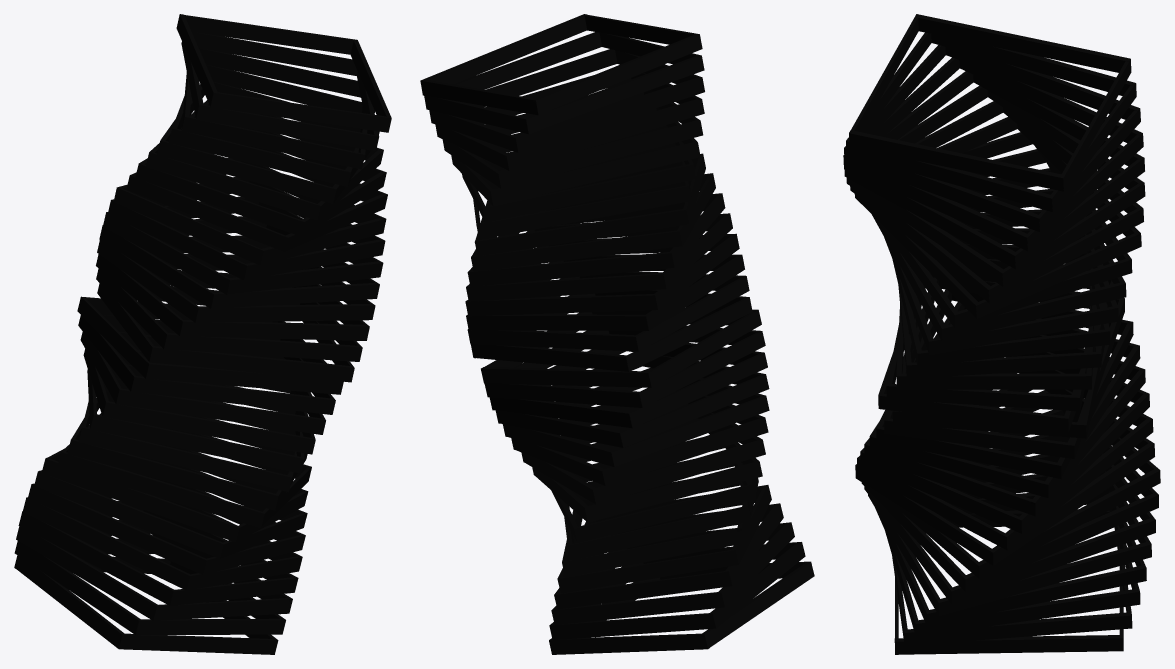
The model's file is THE SHIP.glb.
The picture shows the model from 3 angles, left to right: view 1: azimuth 30°, elevation 25°; view 2: azimuth 150°, elevation 25°; view 3: azimuth 270°, elevation 25°; orthographic projection. The views are drawn at different scales.
Visible parts, largest first — view 1: mesh_id3423, mesh_id3558, mesh_id3531, mesh_id3612, mesh_id3585, mesh_id3504, mesh_id3477, mesh_id4324, mesh_id3088, mesh_id3115, mesh_id4297, mesh_id3142 (+52 smaller); view 2: mesh_id4283, mesh_id4256, mesh_id4391, mesh_id4202, mesh_id4418, mesh_id4229, mesh_id4445, mesh_id4094, mesh_id4121, mesh_id4472, mesh_id4499, mesh_id4148 (+53 smaller); view 3: mesh_id4162, mesh_id4175, mesh_id623, mesh_id2842, mesh_id2930, mesh_id2957, mesh_id3182, mesh_id4135, mesh_id4358, mesh_id4493, mesh_id4304, mesh_id4466 (+64 smaller).
Part boxes in pixels (<box>): mesh_id3423: <box>79,426,291,492</box>; mesh_id3558: <box>67,438,277,510</box>; mesh_id3531: <box>103,401,315,454</box>; mesh_id3612: <box>91,413,304,473</box>; mesh_id3585: <box>61,451,263,528</box>; mesh_id3504: <box>116,388,325,434</box>; mesh_id3477: <box>131,375,335,414</box>; mesh_id4324: <box>149,345,354,382</box>; mesh_id3088: <box>34,470,223,558</box>; mesh_id3115: <box>42,457,238,542</box>; mesh_id4297: <box>164,332,362,361</box>; mesh_id3142: <box>30,483,206,574</box>; mesh_id4283: <box>476,185,691,239</box>; mesh_id4256: <box>482,164,696,222</box>; mesh_id4391: <box>474,209,689,256</box>; mesh_id4202: <box>489,142,700,205</box>; mesh_id4418: <box>471,230,682,271</box>; mesh_id4229: <box>497,120,703,188</box>; mesh_id4445: <box>467,252,674,286</box>; mesh_id4094: <box>505,99,704,170</box>; mesh_id4121: <box>513,77,704,152</box>; mesh_id4472: <box>466,273,666,301</box>; mesh_id4499: <box>465,294,657,316</box>; mesh_id4148: <box>523,55,704,133</box>; mesh_id4162: <box>849,130,1063,191</box>; mesh_id4175: <box>917,14,1130,72</box>; mesh_id623: <box>894,635,1123,654</box>; mesh_id2842: <box>904,612,1132,645</box>; mesh_id2930: <box>914,589,1140,636</box>; mesh_id2957: <box>925,565,1146,626</box>; mesh_id3182: <box>937,542,1151,615</box>; mesh_id4135: <box>846,138,1052,211</box>; mesh_id4358: <box>896,373,1091,389</box>; mesh_id4493: <box>906,352,1101,378</box>; mesh_id4304: <box>886,383,1080,411</box>; mesh_id4466: <box>917,329,1110,367</box>.
Size of the model in its own units: 0.8869 by 1.46 by 0.6823.
Materials: 128 (128 with a texture image).
